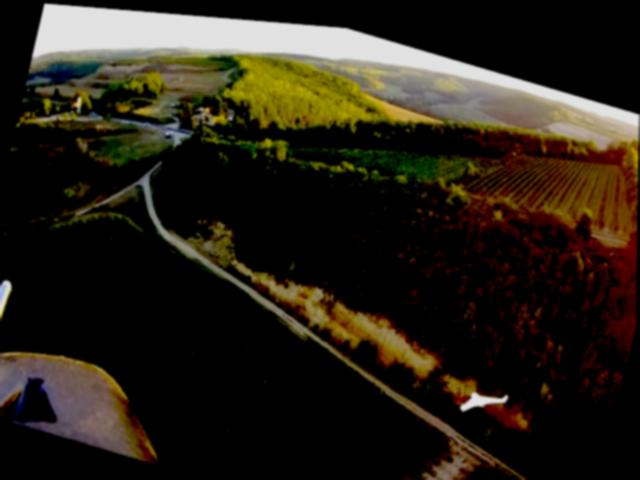plane: (460, 373, 511, 415)
